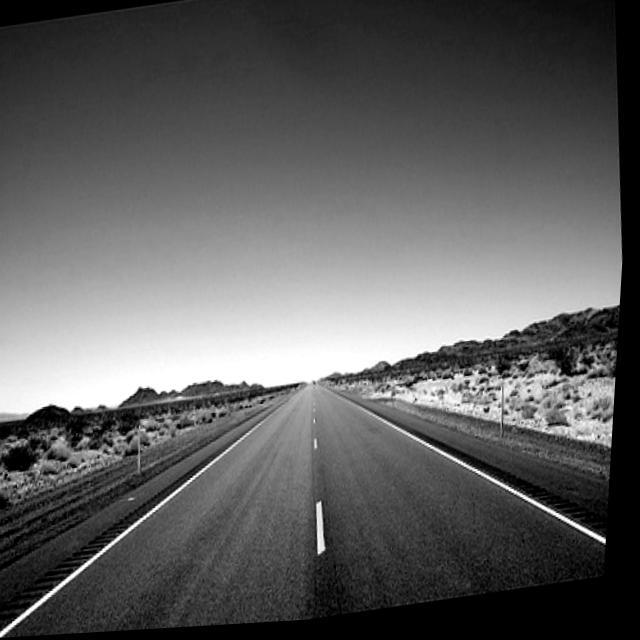cleat: (51, 190, 626, 636)
